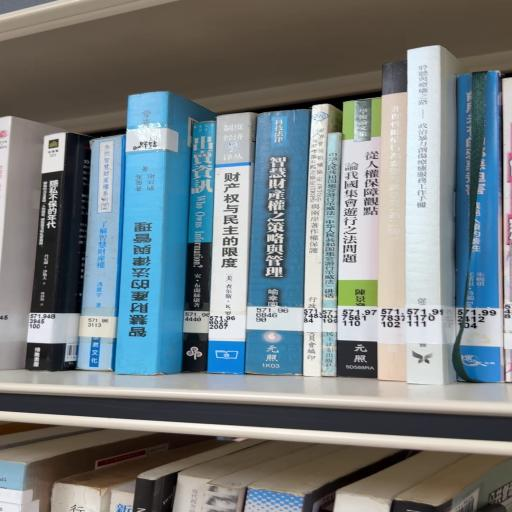reverse: (115, 93, 214, 376)
